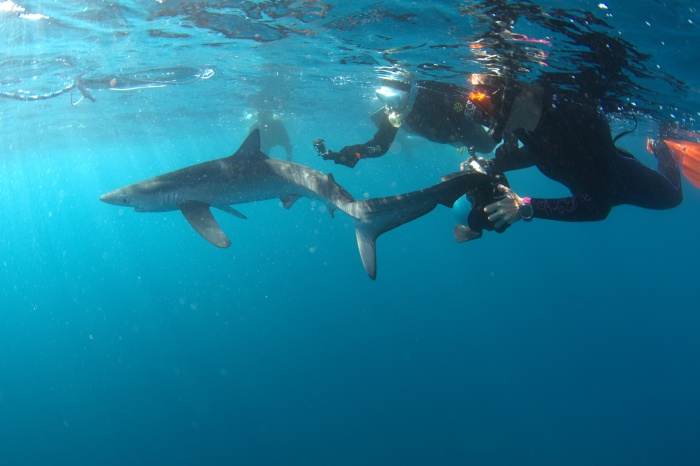Azul: (83, 113, 463, 286)
